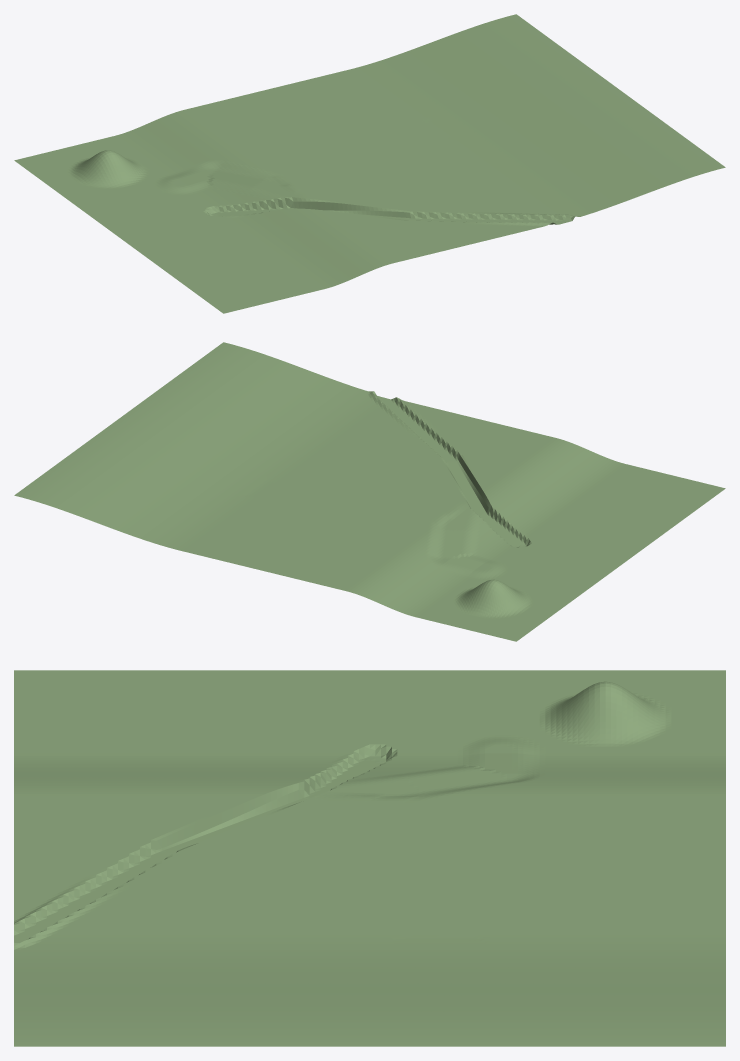
File: town_terrain.glb
3 views of the same model, one above another, from view 1: azimuth 30°, elevation 25°; view 2: azimuth 150°, elevation 25°; view 3: azimuth 270°, elevation 25° (orthographic). The views are drawn at different scales.
Visible parts, largest first — view 1: town_tile_000_024-col, town_tile_048_048-col, town_tile_144_000-col, town_tile_144_048-col, town_tile_144_072-col, town_tile_144_024-col, town_tile_144_096-col, town_tile_048_024-col, town_tile_120_024-col, town_tile_120_096-col, town_tile_024_024-col, town_tile_120_048-col (+36 smaller); view 2: town_tile_000_000-col, town_tile_144_000-col, town_tile_144_048-col, town_tile_144_024-col, town_tile_144_072-col, town_tile_144_096-col, town_tile_048_072-col, town_tile_120_024-col, town_tile_120_096-col, town_tile_024_072-col, town_tile_120_072-col, town_tile_120_000-col (+36 smaller); view 3: town_tile_024_000-col, town_tile_072_096-col, town_tile_000_096-col, town_tile_000_048-col, town_tile_000_072-col, town_tile_072_024-col, town_tile_096_000-col, town_tile_096_024-col, town_tile_096_048-col, town_tile_096_072-col, town_tile_072_000-col, town_tile_072_048-col (+36 smaller).
Boxes of the visible parts, bbox=[...] form: town_tile_000_024-col: bbox=[53, 155, 157, 216]; town_tile_048_048-col: bbox=[225, 159, 330, 212]; town_tile_144_000-col: bbox=[416, 24, 521, 76]; town_tile_144_048-col: bbox=[493, 80, 598, 132]; town_tile_144_072-col: bbox=[532, 109, 637, 161]; town_tile_144_024-col: bbox=[455, 52, 559, 104]; town_tile_144_096-col: bbox=[571, 137, 675, 189]; town_tile_048_024-col: bbox=[187, 130, 291, 179]; town_tile_120_024-col: bbox=[388, 76, 492, 126]; town_tile_120_096-col: bbox=[504, 161, 608, 210]; town_tile_024_024-col: bbox=[120, 152, 224, 200]; town_tile_120_048-col: bbox=[427, 105, 531, 154]; town_tile_000_000-col: bbox=[450, 579, 554, 641]; town_tile_144_000-col: bbox=[48, 477, 152, 529]; town_tile_144_048-col: bbox=[125, 420, 230, 472]; town_tile_144_024-col: bbox=[86, 448, 191, 500]; town_tile_144_072-col: bbox=[164, 392, 268, 444]; town_tile_144_096-col: bbox=[202, 364, 307, 415]; town_tile_048_072-col: bbox=[432, 470, 536, 525]; town_tile_120_024-col: bbox=[153, 473, 258, 522]; town_tile_120_096-col: bbox=[269, 388, 374, 437]; town_tile_024_072-col: bbox=[499, 491, 603, 540]; town_tile_120_072-col: bbox=[231, 416, 335, 465]; town_tile_120_000-col: bbox=[115, 501, 219, 550]; town_tile_024_000-col: bbox=[594, 696, 725, 773]; town_tile_072_096-col: bbox=[68, 821, 200, 883]; town_tile_000_096-col: bbox=[68, 670, 200, 725]; town_tile_000_048-col: bbox=[331, 670, 462, 725]; town_tile_000_072-col: bbox=[200, 670, 331, 725]; town_tile_072_024-col: bbox=[463, 821, 594, 876]; town_tile_096_000-col: bbox=[594, 877, 725, 932]; town_tile_096_024-col: bbox=[463, 877, 594, 932]; town_tile_096_048-col: bbox=[331, 877, 462, 932]; town_tile_096_072-col: bbox=[200, 877, 331, 932]; town_tile_072_000-col: bbox=[594, 821, 725, 876]; town_tile_072_048-col: bbox=[331, 821, 462, 876].
Bounding box in the file's own units: 180 × 9.55 × 130.
